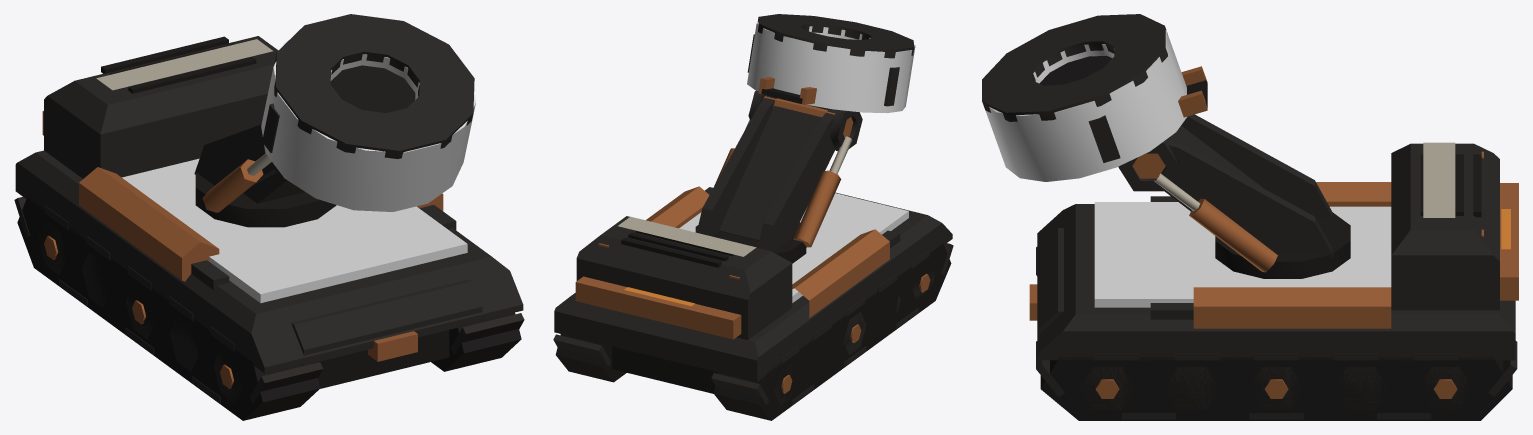
File: lnd_t1_arty.7471107f.raw.glb
3 renders of one model, left to right at view 1: azimuth 30°, elevation 25°; view 2: azimuth 150°, elevation 25°; view 3: azimuth 270°, elevation 25°, orthographic. The views are drawn at different scales.
Visible parts, largest first — view 1: lod0; view 2: lod0; view 3: lod0.
Part boxes in pixels (box(x1,y1,x2,y2)): lod0: box(14, 14, 524, 420); lod0: box(553, 14, 953, 420); lod0: box(982, 14, 1518, 420).
Size of what is drawn, in the model's own units: 0.914 by 1.12 by 1.68.
